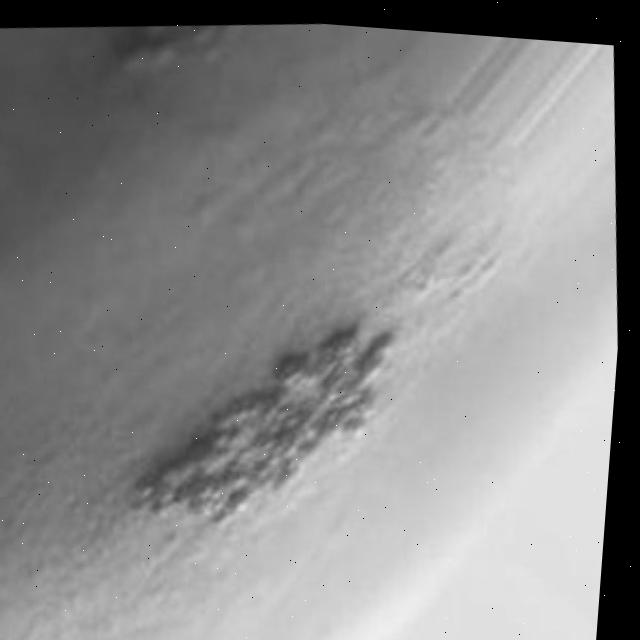Shingles: (115, 303, 420, 549), (110, 14, 257, 84)
